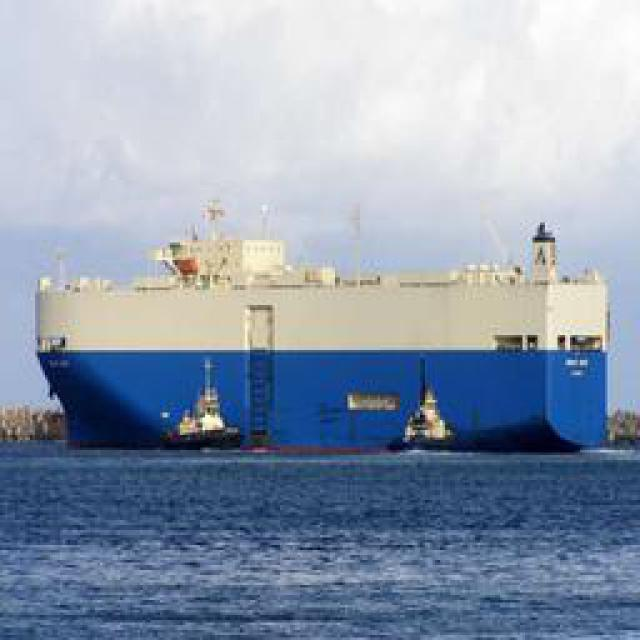Ship: (31, 187, 609, 464)
